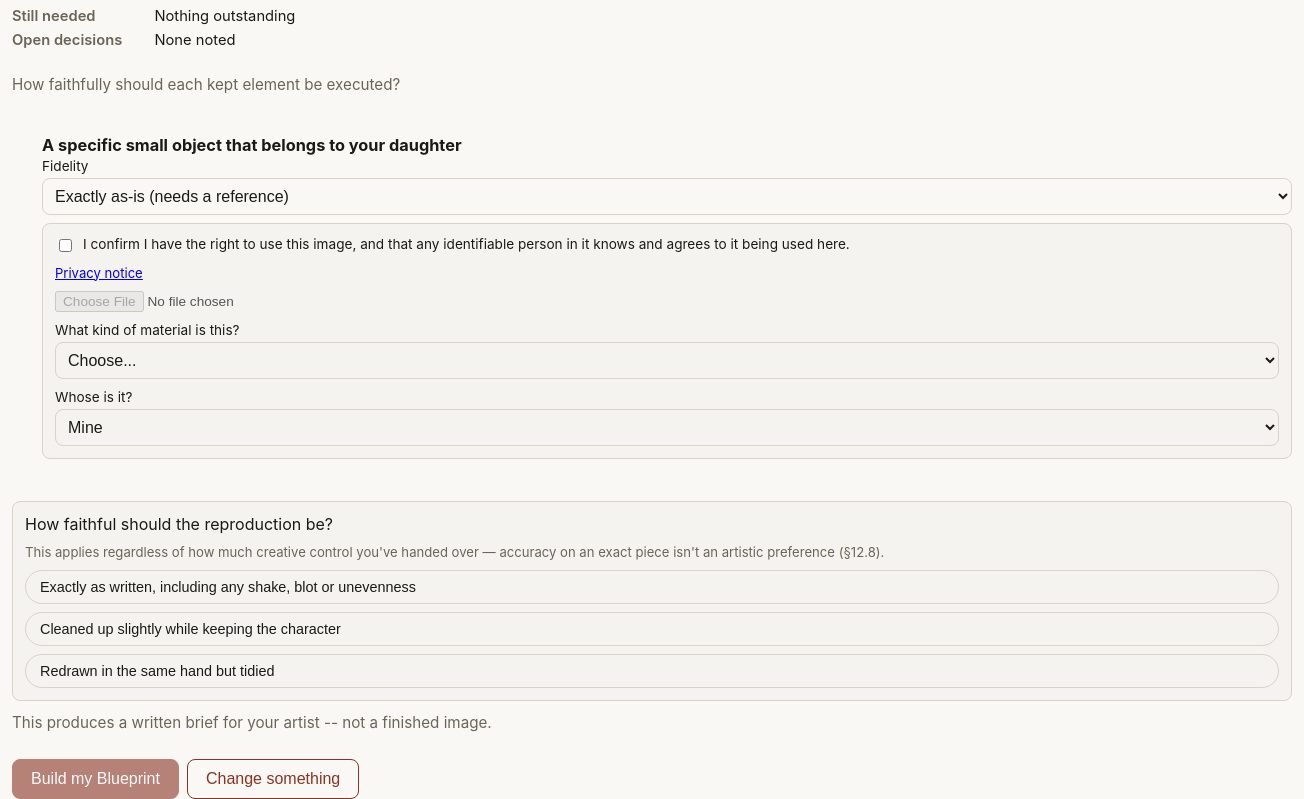
it: DesignConfirmation -- per-candidate fidelity dropdown + fidelity_treatment re-check › gates the Build button on fidelity_treatment once an exact-fidelity element exists, re-running the same check Screen 11 already ran -- the sequencing-bug fix
(page scrolled)
Expected: the button "Build my Blueprint" is disabled, [12,759,179,798]
Expected: the text "How faithful should the reproduction be?" is shown, [25,514,333,534]
Click the button "Exactly as written, including any shake, blot or unevenness".
click(228, 587)  # box [25,570,1279,604]
(page scrolled)
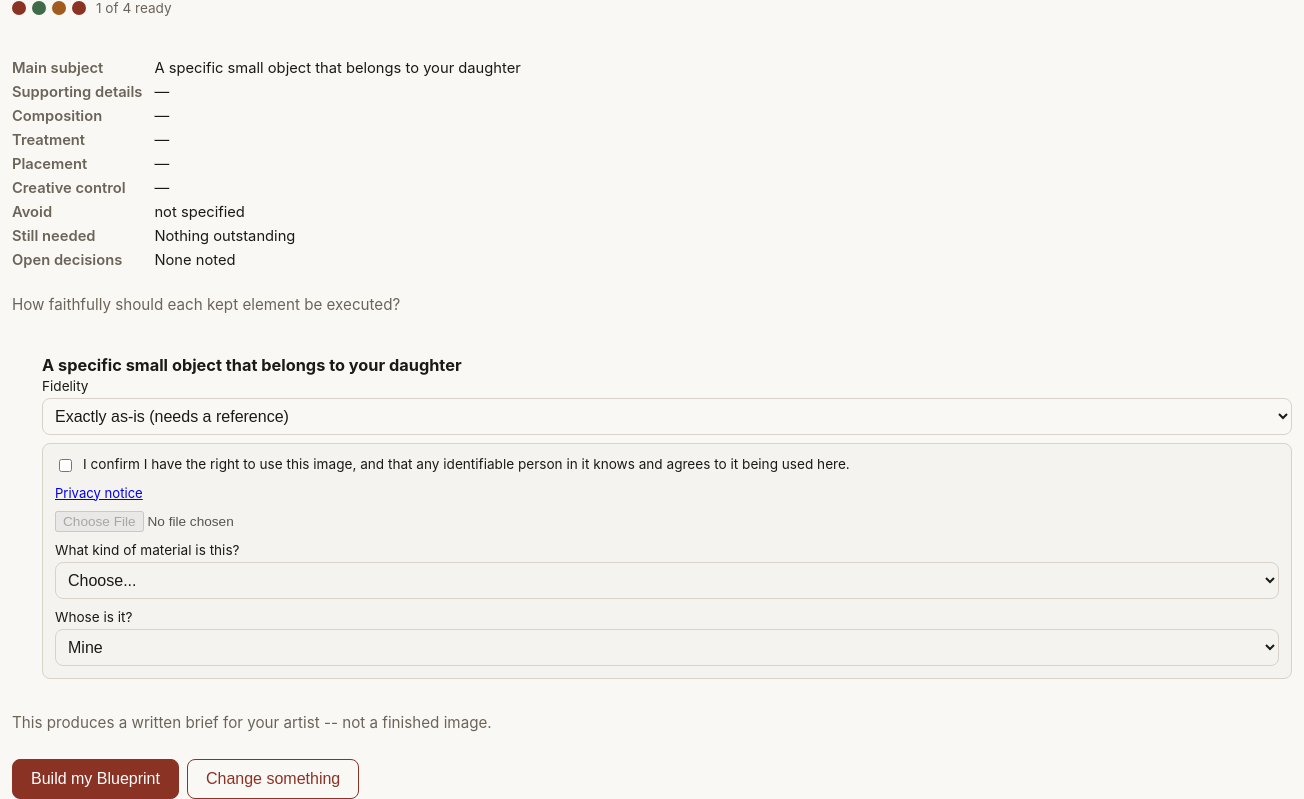
Expected: the text "How faithful should the reproduction be?" is gone
Expected: the button "Build my Blueprint" is enabled, [12,759,179,798]
